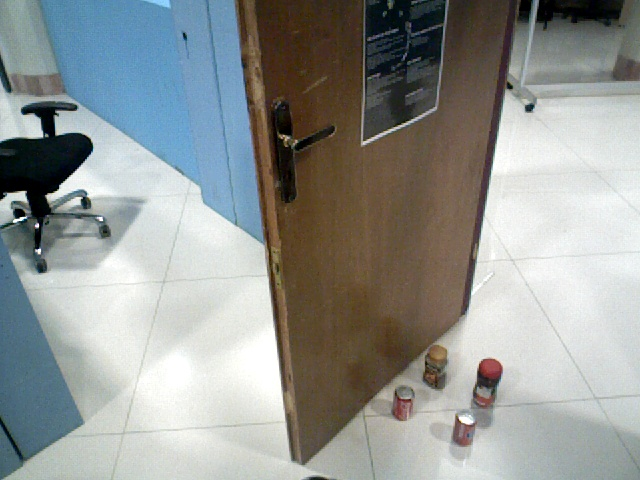coca: (390, 386, 415, 422)
coffee: (424, 345, 450, 389)
cream: (473, 358, 502, 410)
door_handle: (265, 92, 339, 204)
fanta: (451, 410, 477, 446)
